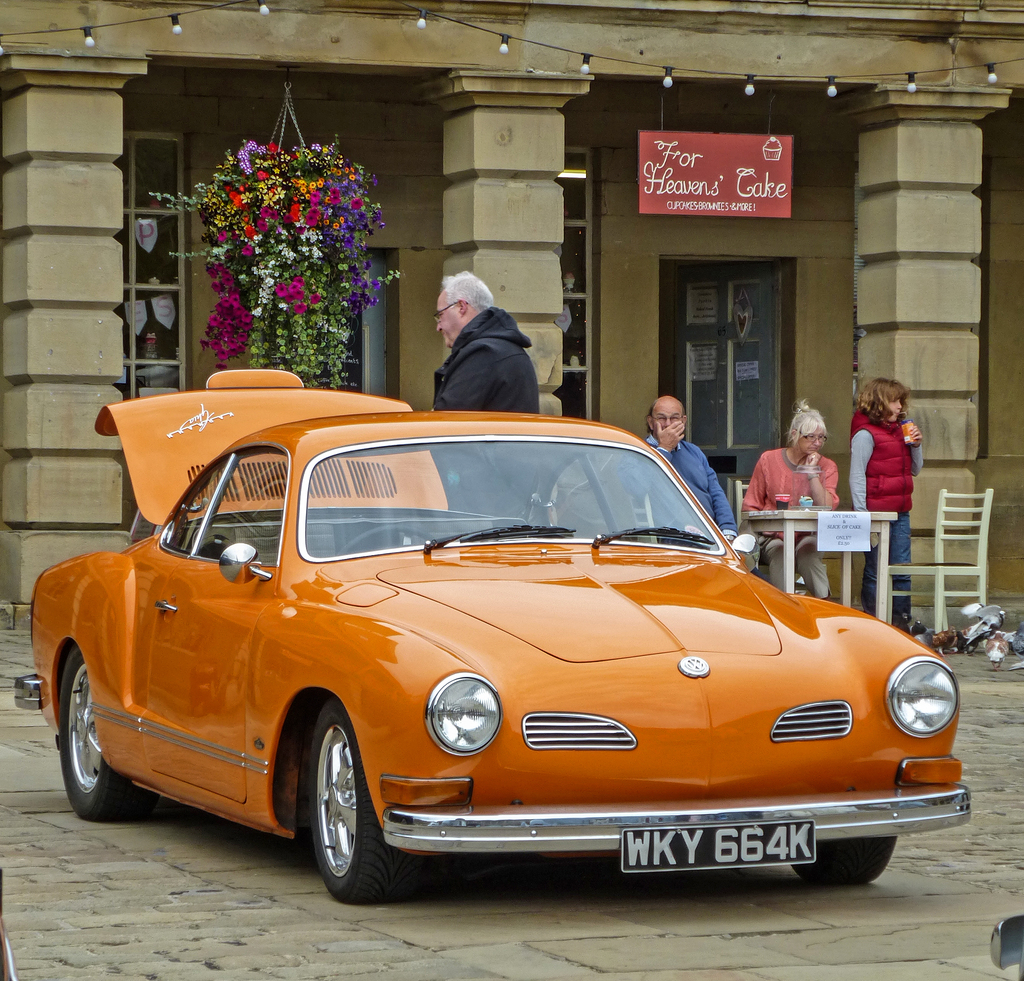Person: (614, 394, 742, 557), (849, 377, 923, 633), (421, 270, 534, 424)
